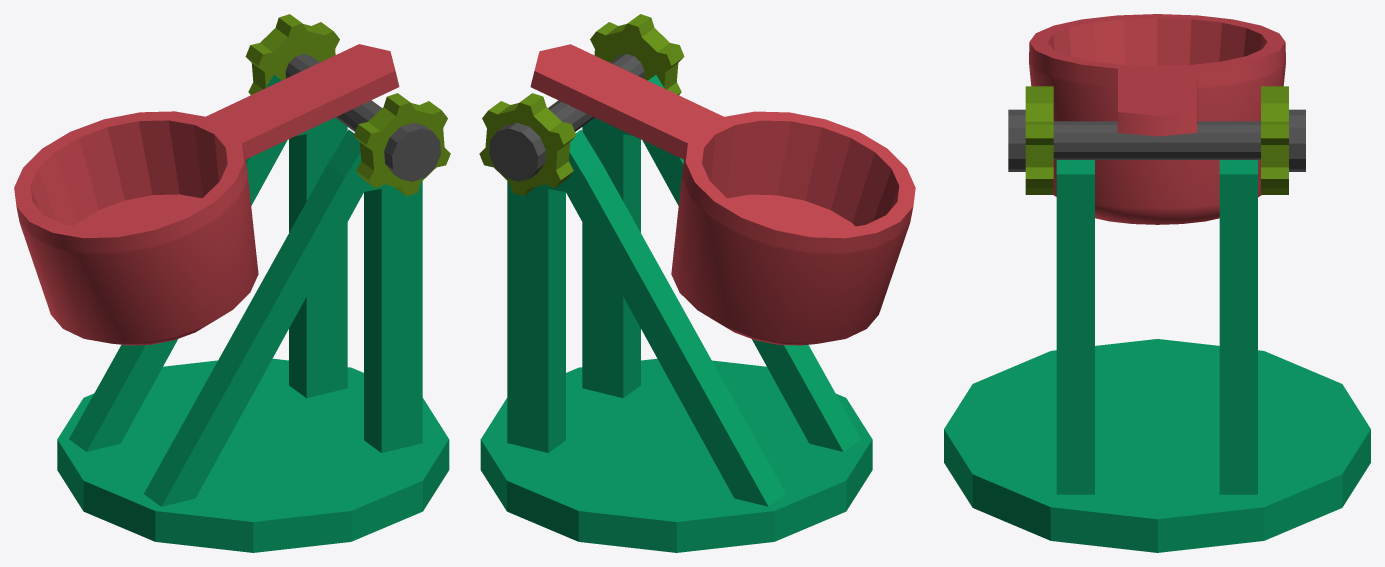
The model's file is Catapult.fbx.
3 renders of one model, left to right at view 1: azimuth 30°, elevation 25°; view 2: azimuth 150°, elevation 25°; view 3: azimuth 270°, elevation 25°, orthographic. The views are drawn at different scales.
Visible parts, largest first — view 1: pCylinder1, pCylinder5, pCube2, pCube3, pCylinder4; view 2: pCylinder1, pCylinder5, pCube3, pCube2, pCylinder4; view 3: pCylinder5, pCylinder1, pCylinder4, pCube3, pCube2.
Boxes of the visible parts, box(x1,y1,x2,y2) form: pCylinder1: box(14, 44, 399, 345); pCylinder5: box(57, 358, 449, 552); pCube2: box(144, 129, 422, 506); pCube3: box(69, 75, 347, 451); pCylinder4: box(245, 14, 450, 196); pCylinder1: box(530, 44, 915, 345); pCylinder5: box(480, 358, 872, 552); pCube3: box(507, 130, 785, 506); pCube2: box(582, 75, 860, 451); pCylinder4: box(479, 14, 684, 196); pCylinder5: box(944, 339, 1370, 552); pCylinder1: box(1029, 14, 1285, 224); pCylinder4: box(1008, 86, 1305, 194); pCube3: box(1219, 160, 1257, 494); pCube2: box(1056, 160, 1094, 494).
Bounding box in the file's own units: 13.8 × 13.02 × 11.91.
